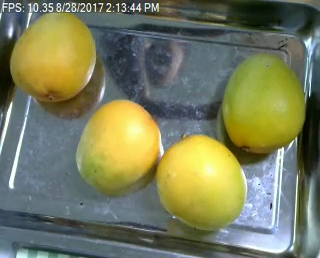Mango: (153, 132, 246, 227), (220, 55, 306, 154), (71, 99, 160, 194), (9, 9, 97, 104)
